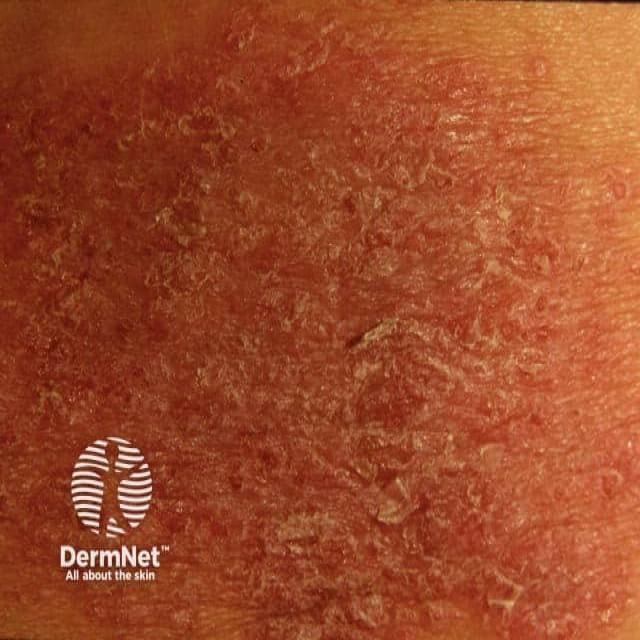Eczema: (7, 15, 616, 640)
